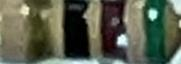Black: (60, 1, 91, 58)
Brown: (98, 0, 130, 62)
Green: (141, 0, 171, 64)
Side-Gold: (21, 0, 56, 62)
